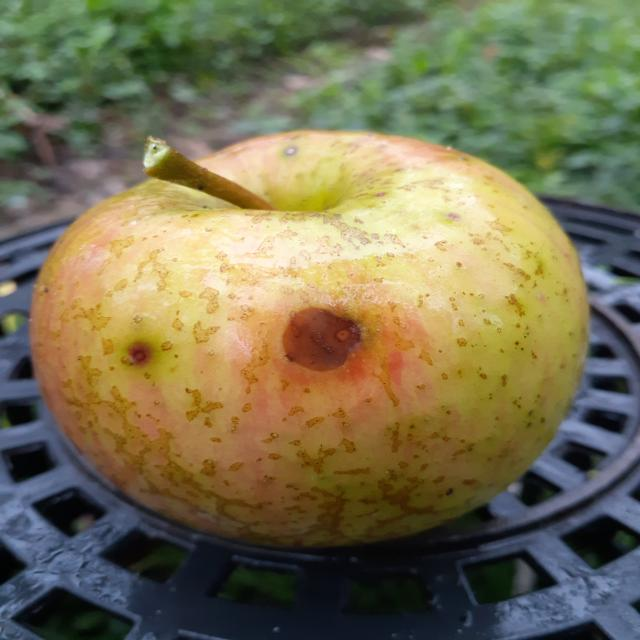rotten: (22, 121, 606, 557)
